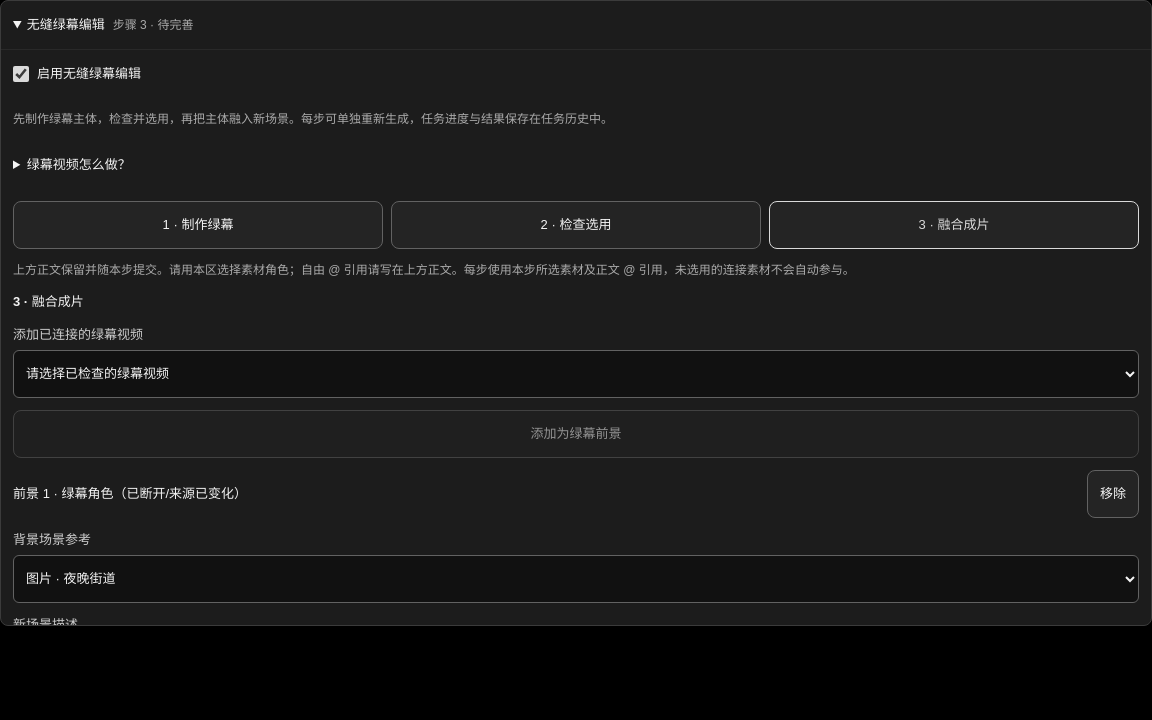
Scenario: GreenScreenSection › keeps changed media identity invalid until the user explicitly replaces it
The width and height of the screenshot is (1152, 720).
Click the button with aria-label "移除绿幕前景 1 绿幕角色": click(1113, 494) left=1087, top=470, right=1139, bottom=518
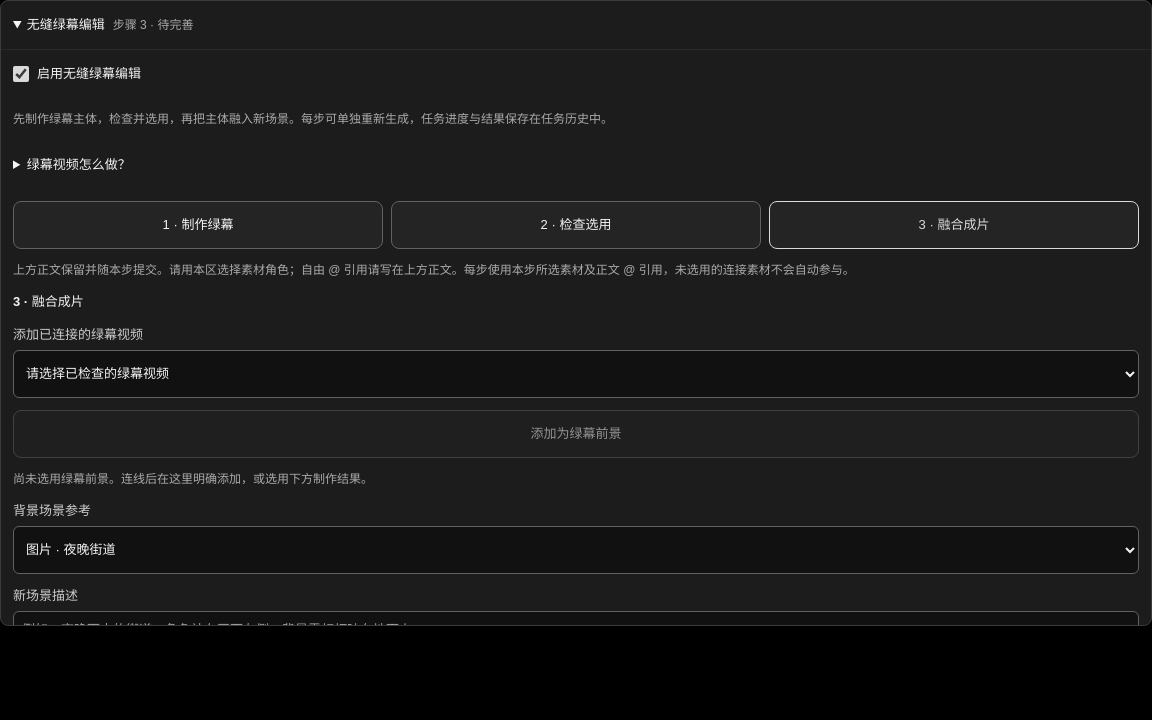
Select "视频 · 绿幕角色" in the dropdown labelled "添加已连接的绿幕视频": (576, 374) left=13, top=350, right=1139, bottom=398
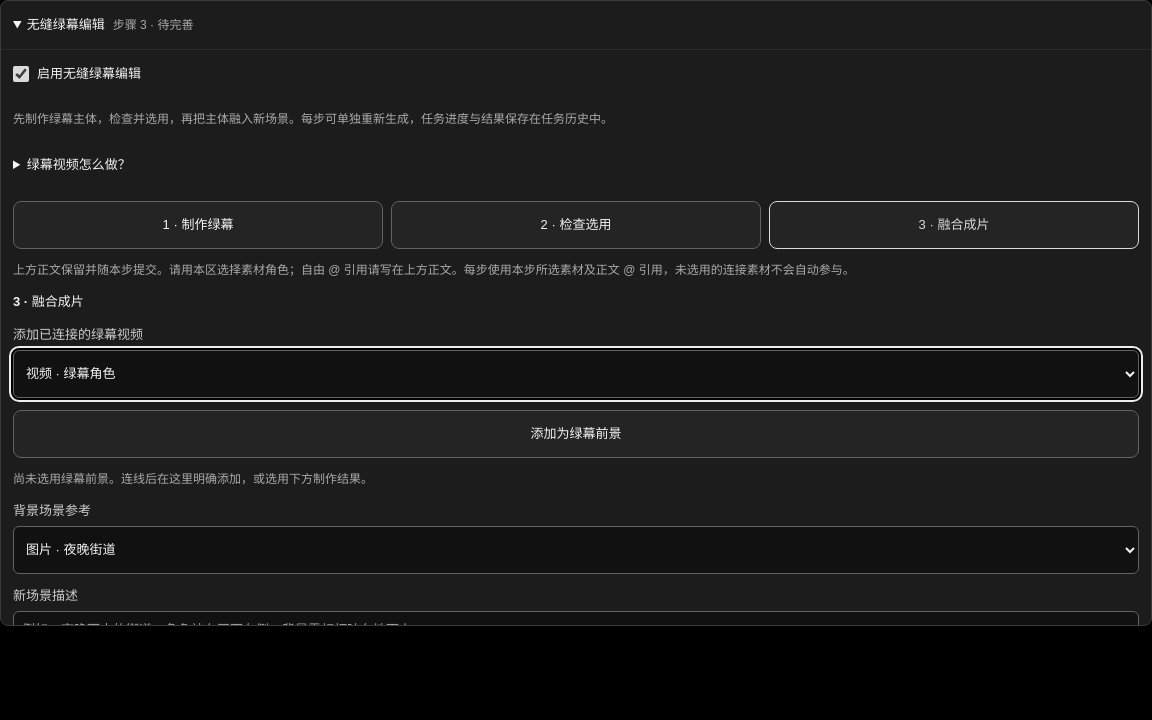
Click the button "添加为绿幕前景": click(576, 434) left=13, top=410, right=1139, bottom=458
(page scrolled)
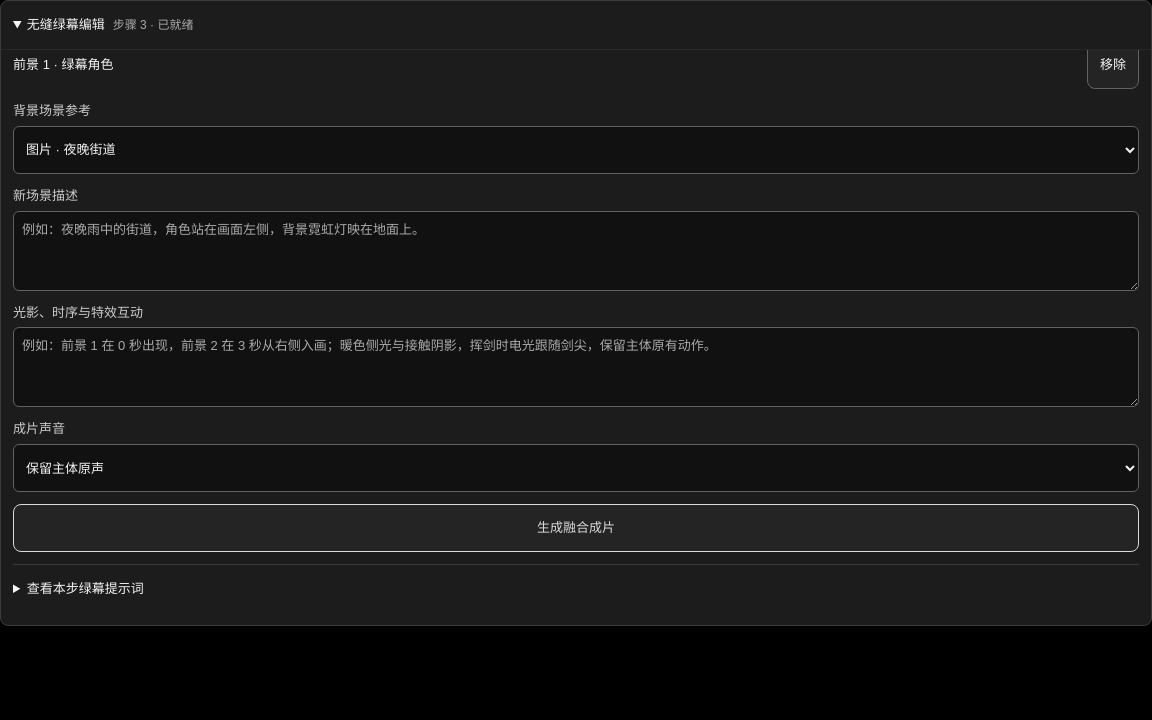
Expected: the button "生成融合成片" is enabled, left=13, top=504, right=1139, bottom=552
